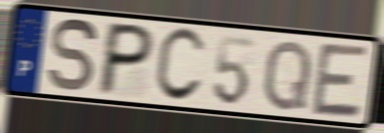5: (211, 32, 258, 107)
C: (151, 25, 208, 105)
E: (309, 41, 372, 122)
P: (93, 19, 158, 97)
Q: (261, 37, 315, 114)
S: (46, 16, 100, 95)
